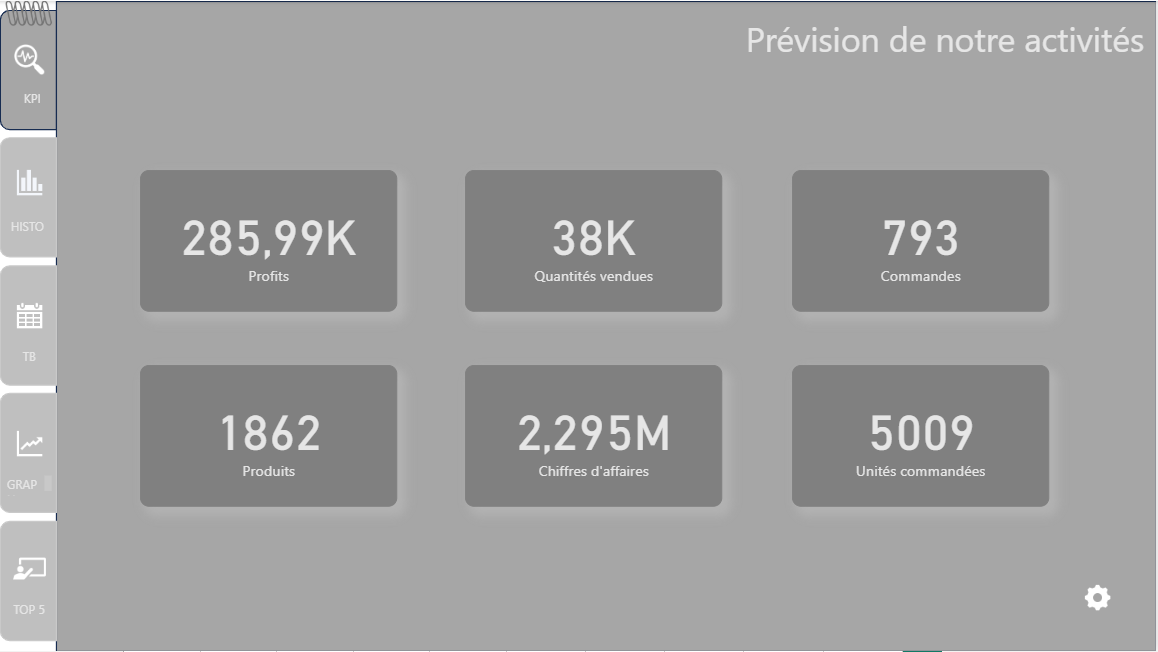

What the dashboard file says about the page in this screenshot:
{"tool":"powerbi","page":{"name":"feuille1","canvas":[1280,720],"ordinal":5},"visuals":[{"type":"card","fields":{"Values":["Tous les MESURES.Total des ventes"]},"box":[515.3,403.5,285.3,156.8],"z":0},{"type":"card","fields":{"Values":["Tous les MESURES.Somme de profit"]},"box":[155.5,187.6,285.3,156.8],"z":1000},{"type":"card","fields":{"Values":["Superstore 2025.Total des quantités vendues"]},"box":[515.3,187.6,285.3,156.8],"z":2000},{"type":"card","fields":{"Values":["Superstore 2025.Nombre de client"]},"box":[877.8,187.6,285.3,156.8],"z":3000},{"type":"card","fields":{"Values":["Tous les MESURES.Nombre de totalde commande"]},"box":[877.8,403.5,285.3,156.8],"z":4000},{"type":"textbox","box":[800.6,11.6,471.6,64.3],"z":5000},{"type":"card","fields":{"Values":["Tous les MESURES.Nbre de produits"]},"box":[155.5,403.5,285.3,156.8],"z":6000},{"type":"image","box":[7.7,39.8,50.1,50.1],"z":7000},{"type":"image","box":[7.7,604,50.1,50.1],"z":8000},{"type":"image","box":[7.7,176.1,50.1,50.1],"z":9000},{"type":"image","box":[7.7,465.2,50.1,50.1],"z":10000},{"type":"image","box":[7.7,323.9,50.1,50.1],"z":11000},{"type":"textbox","box":[7.7,93.8,42.4,33.4],"z":12000},{"type":"textbox","box":[0,236.5,60.4,32.1],"z":13000},{"type":"textbox","box":[2.6,380.4,60.4,32.1],"z":14000},{"type":"textbox","box":[2.6,520.5,60.4,32.1],"z":15000},{"type":"textbox","box":[2.6,660.6,60.4,32.1],"z":16000},{"type":"shape","box":[0,11.6,63,131.1],"z":17000},{"type":"shape","box":[0,151.6,63,131.1],"z":18000},{"type":"shape","box":[0,434.4,63,131.1],"z":19000},{"type":"shape","box":[0,575.7,63,131.1],"z":20000},{"type":"shape","box":[0,294.3,63,131.1],"z":21000},{"type":"image","box":[1191.1,635.3,50.3,50.3],"z":22000}]}

Visuals, with their boxes on the page's 1280x720 design canvas (x1, y1, x2, y2). These are canvas units, not pixel positions in the 1158x652 screenshot, which may show the page scaled, cropped or inside an application window:
card - Tous les MESURES.Total des ventes: locate(515, 404, 801, 560)
card - Tous les MESURES.Somme de profit: locate(156, 188, 441, 344)
card - Superstore 2025.Total des quantités vendues: locate(515, 188, 801, 344)
card - Superstore 2025.Nombre de client: locate(878, 188, 1163, 344)
card - Tous les MESURES.Nombre de totalde commande: locate(878, 404, 1163, 560)
textbox: locate(801, 12, 1272, 76)
card - Tous les MESURES.Nbre de produits: locate(156, 404, 441, 560)
image: locate(8, 40, 58, 90)
image: locate(8, 604, 58, 654)
image: locate(8, 176, 58, 226)
image: locate(8, 465, 58, 515)
image: locate(8, 324, 58, 374)
textbox: locate(8, 94, 50, 127)
textbox: locate(0, 236, 60, 269)
textbox: locate(3, 380, 63, 412)
textbox: locate(3, 520, 63, 553)
textbox: locate(3, 661, 63, 693)
shape: locate(0, 12, 63, 143)
shape: locate(0, 152, 63, 283)
shape: locate(0, 434, 63, 566)
shape: locate(0, 576, 63, 707)
shape: locate(0, 294, 63, 425)
image: locate(1191, 635, 1241, 686)
